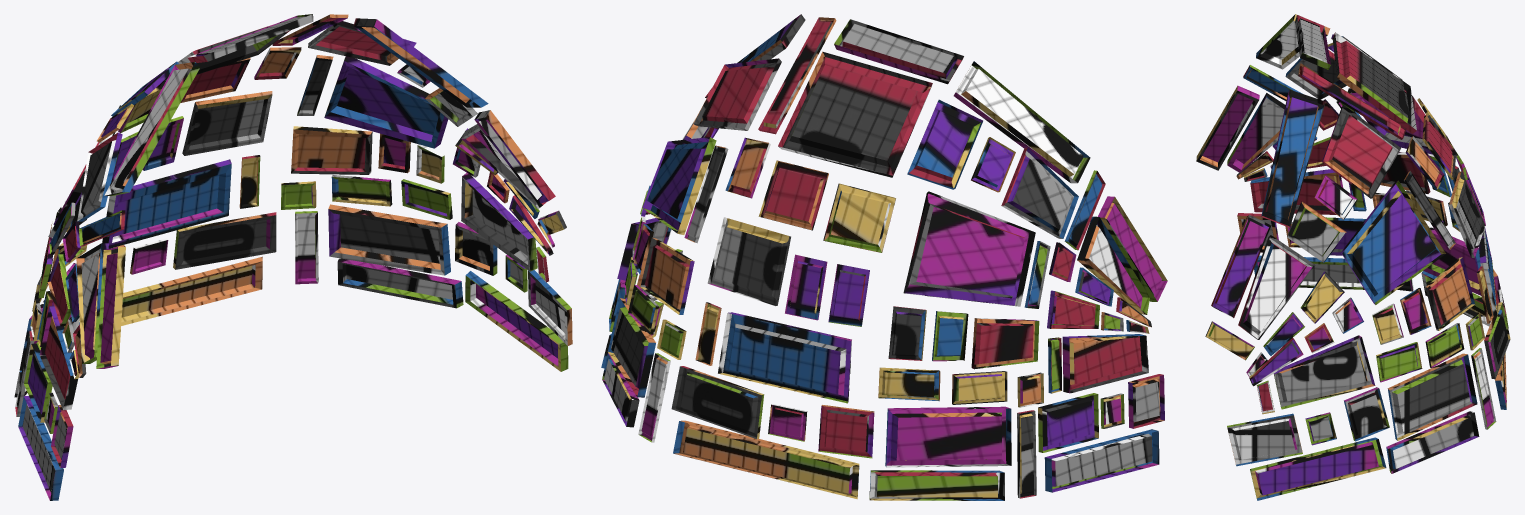
The model's file is ArenaTVs.fbx.
3 renders of one model, left to right at view 1: azimuth 30°, elevation 25°; view 2: azimuth 150°, elevation 25°; view 3: azimuth 270°, elevation 25°, orthographic. The views are drawn at different scales.
Parts seen in each view (by area): view 1: TV11; view 2: TV11; view 3: TV11.
Part boxes in pixels (x1,y1,x2,y2): TV11: [14, 14, 572, 500]; TV11: [601, 14, 1167, 500]; TV11: [1196, 14, 1510, 500].
Bounding box in the file's own units: 300 × 221 × 177.
Materials: 1 (1 with a texture image).
